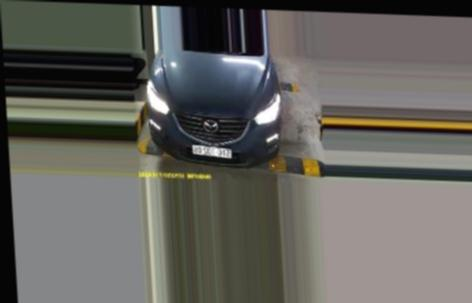License_Plate: (190, 143, 233, 157)
